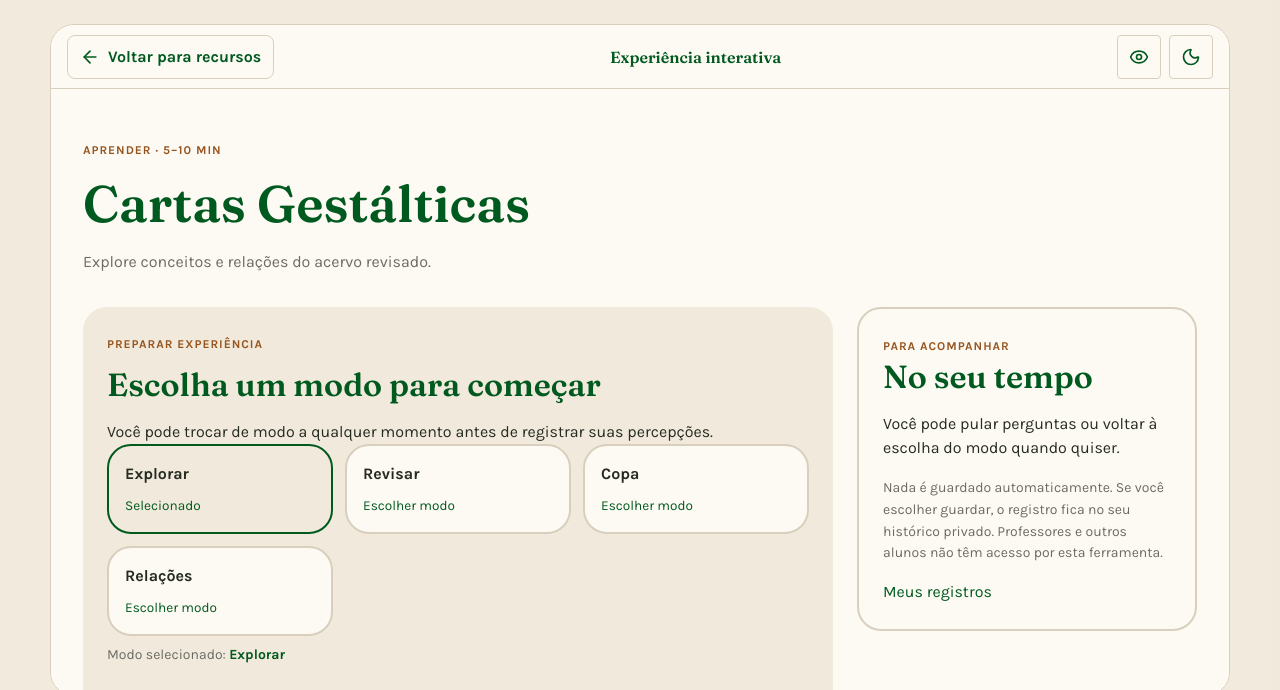
Test: ResourceHost mode changes › shows the selected card-study mode even while editorial content is unavailable
Click the button "Revisar Escolher modo" at (458, 489), box [345, 444, 571, 534]
(page scrolled)
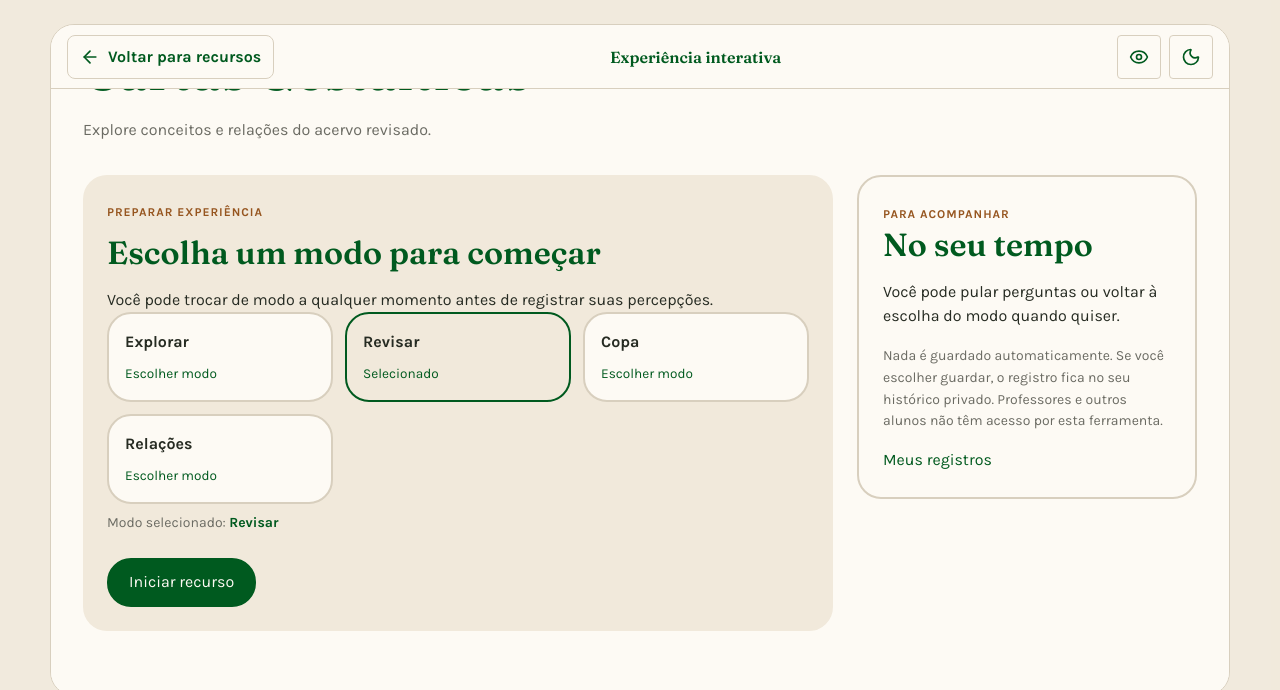
Now the button "Revisar Selecionado" is pressed, box [345, 312, 571, 402]
Click the button "Iniciar recurso" at (182, 582), box [107, 558, 256, 607]
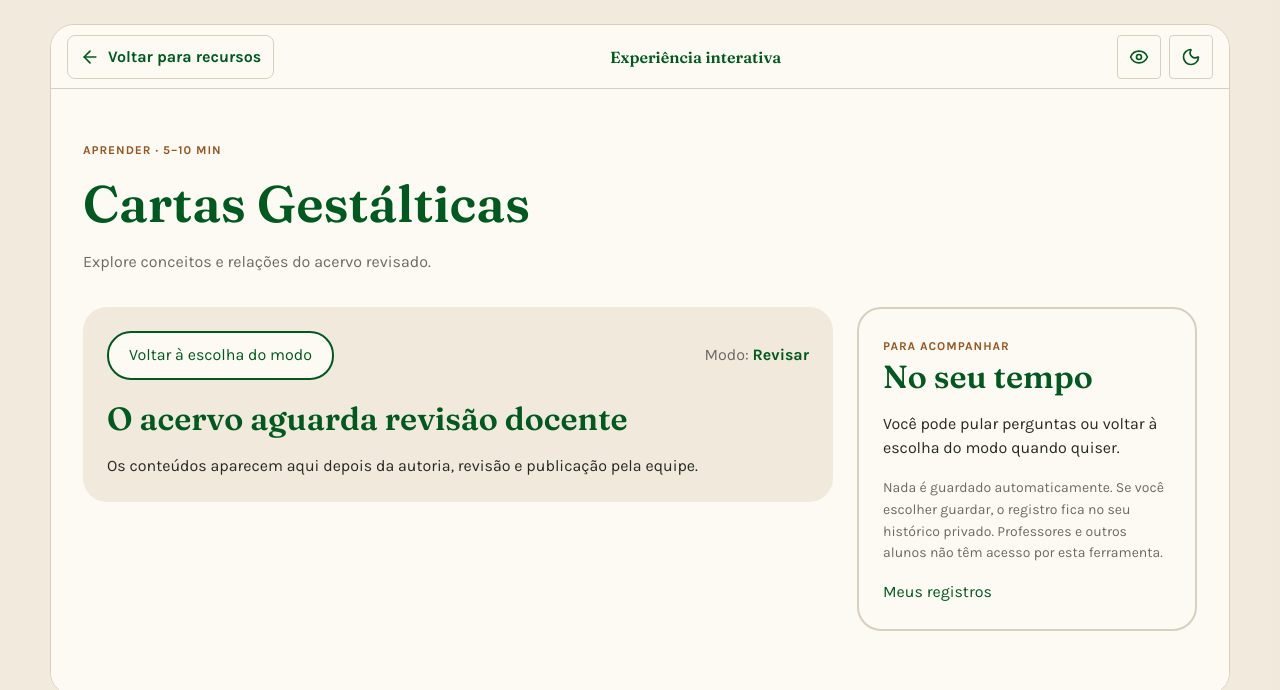
Now the heading "O acervo aguarda revisão docente" is shown, box [107, 399, 628, 438]
